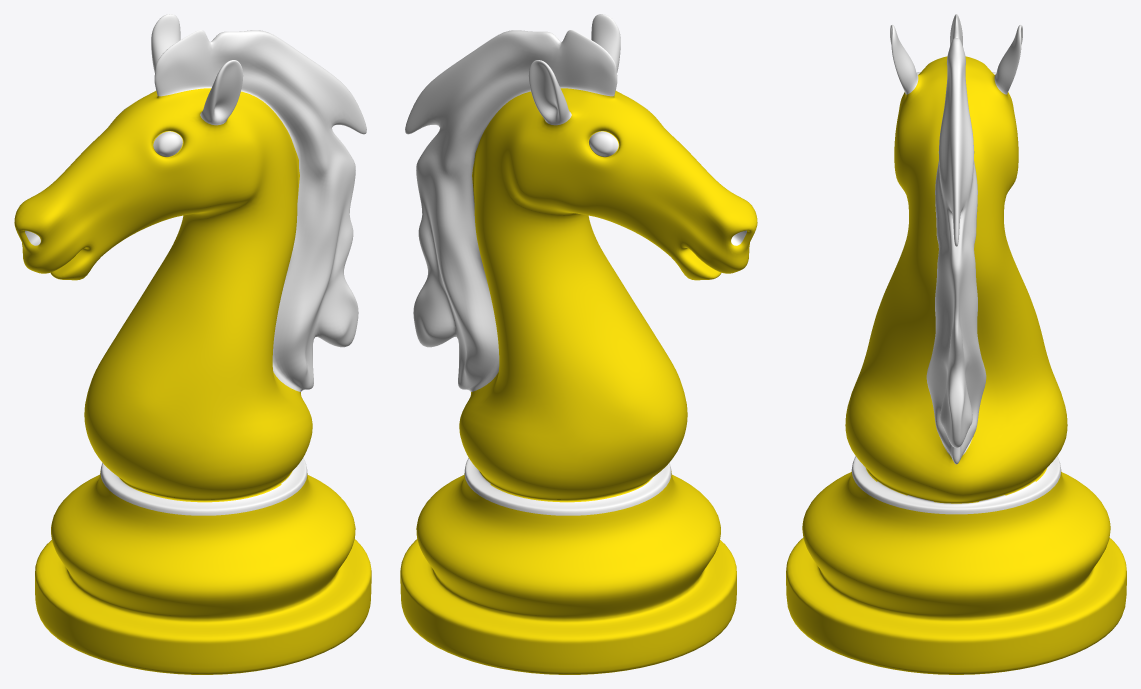
Rendered from black Knight.fbx.
The picture shows the model from 3 angles, left to right: view 1: azimuth 30°, elevation 25°; view 2: azimuth 150°, elevation 25°; view 3: azimuth 270°, elevation 25°; orthographic projection.
Visible parts, largest first — view 1: black Knight.001; view 2: black Knight.001; view 3: black Knight.001.
Part boxes in pixels (<box>): black Knight.001: <box>14,14,371,674</box>; black Knight.001: <box>400,14,757,674</box>; black Knight.001: <box>786,14,1126,674</box>.
Size of the model in its own units: 122 by 193 by 102.
